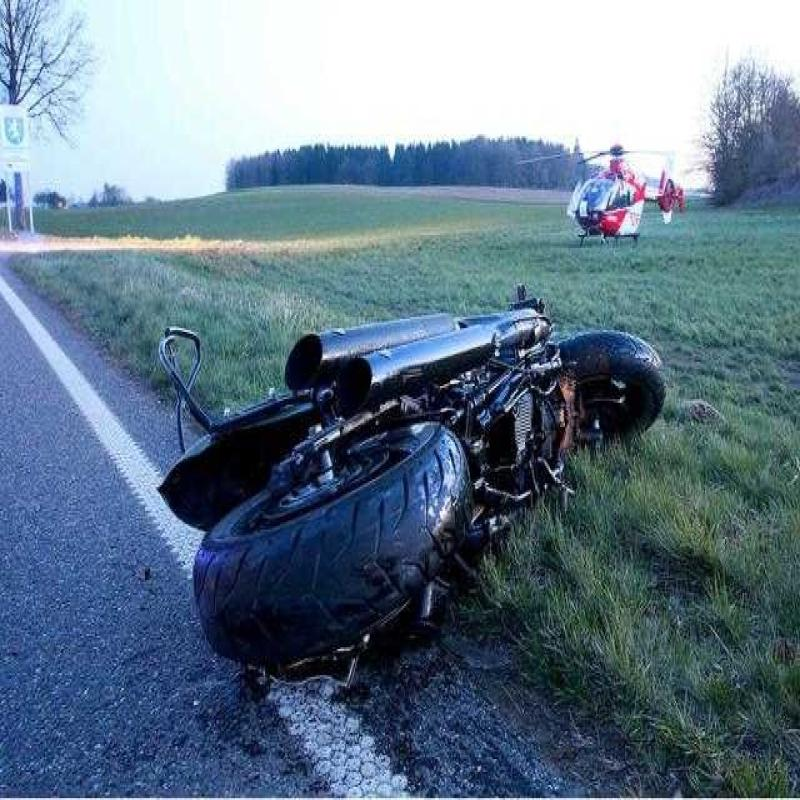bike: (155, 266, 655, 666)
